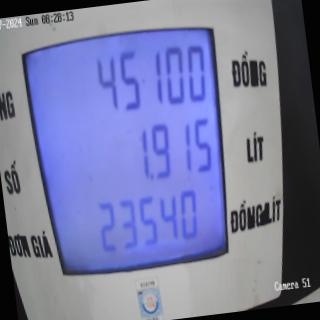screen: (15, 1, 247, 290)
